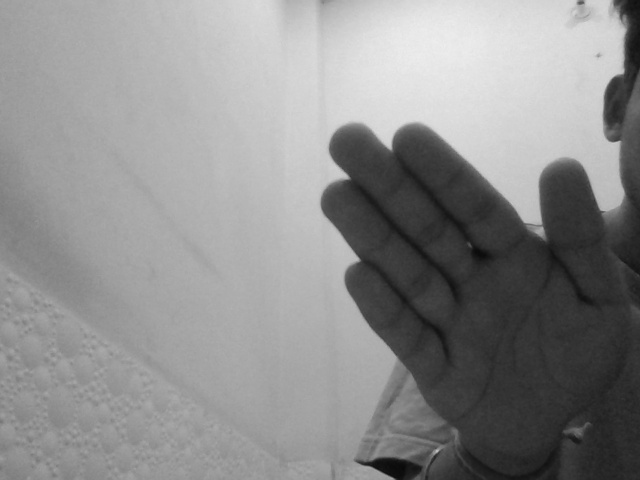Hello: (314, 118, 633, 463)
